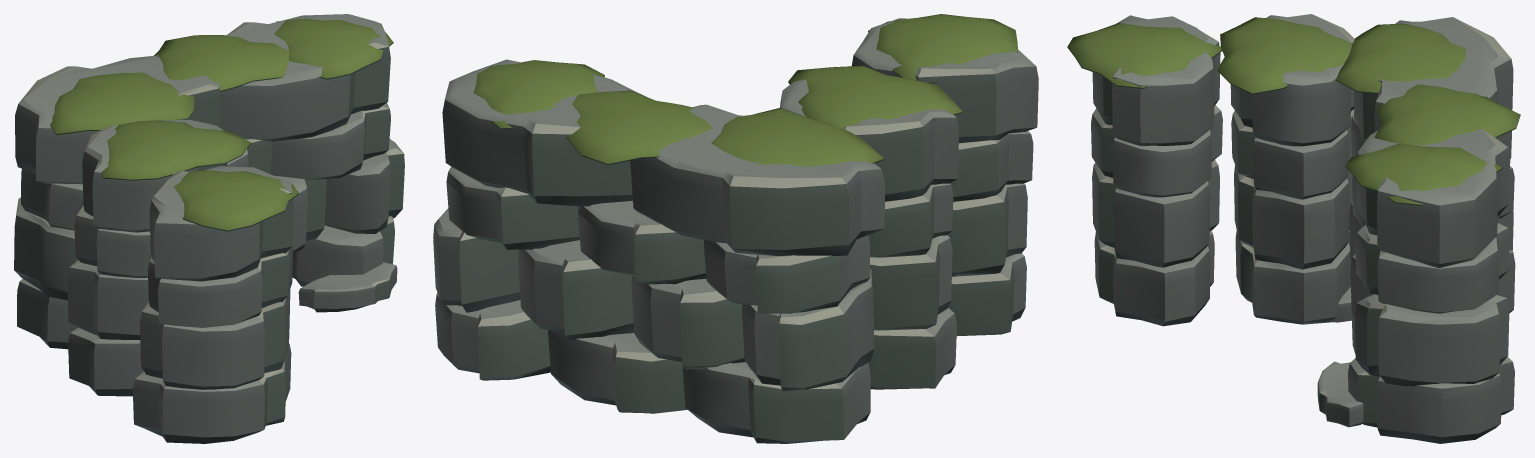
File: fw_cliff_corner.glb
The picture shows the model from 3 angles, left to right: view 1: azimuth 30°, elevation 25°; view 2: azimuth 150°, elevation 25°; view 3: azimuth 270°, elevation 25°; orthographic projection. The views are drawn at different scales.
Parts seen in each view (by area): view 1: body; view 2: body; view 3: body.
Boxes of the visible parts, x1,y1,x2,y2 form: body: (14, 14, 404, 443); body: (433, 14, 1038, 443); body: (1067, 14, 1520, 443).
Size of the model in its own units: 3.44 by 2.08 by 3.35.
